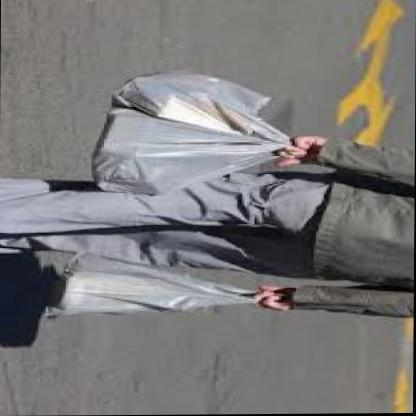Plastic: (64, 51, 294, 195), (23, 242, 288, 336)
